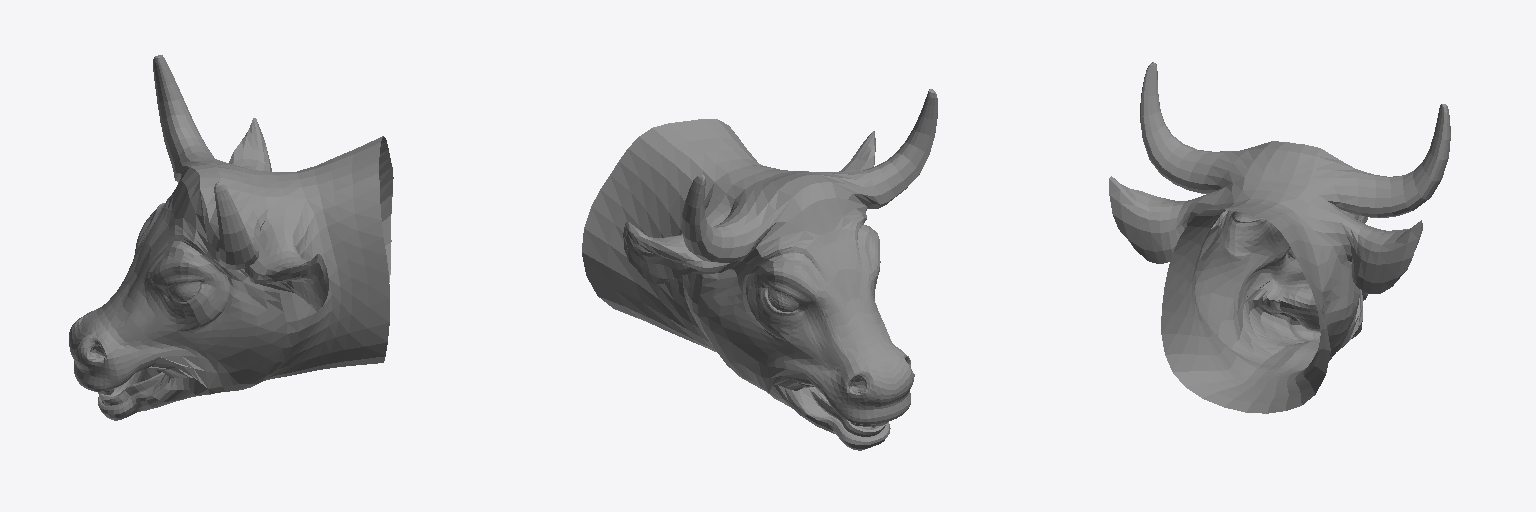
The model's file is HeadBull.obj.
3 views of the same model, side by side, from view 1: azimuth 30°, elevation 25°; view 2: azimuth 150°, elevation 25°; view 3: azimuth 270°, elevation 25° (orthographic).
Visible parts, largest first — view 1: HeadBull; view 2: HeadBull; view 3: HeadBull.
Boxes of the visible parts, x1=… form: HeadBull: x1=69, y1=55, x2=393, y2=420; HeadBull: x1=582, y1=89, x2=937, y2=450; HeadBull: x1=1109, y1=62, x2=1450, y2=413.
Size of the model in its own units: 1.66 by 1.43 by 1.53.